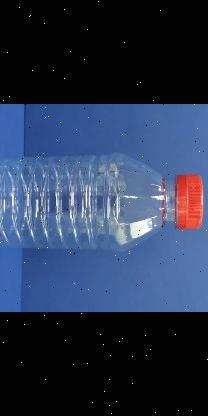Plastic Bottle: (0, 152, 203, 251)
